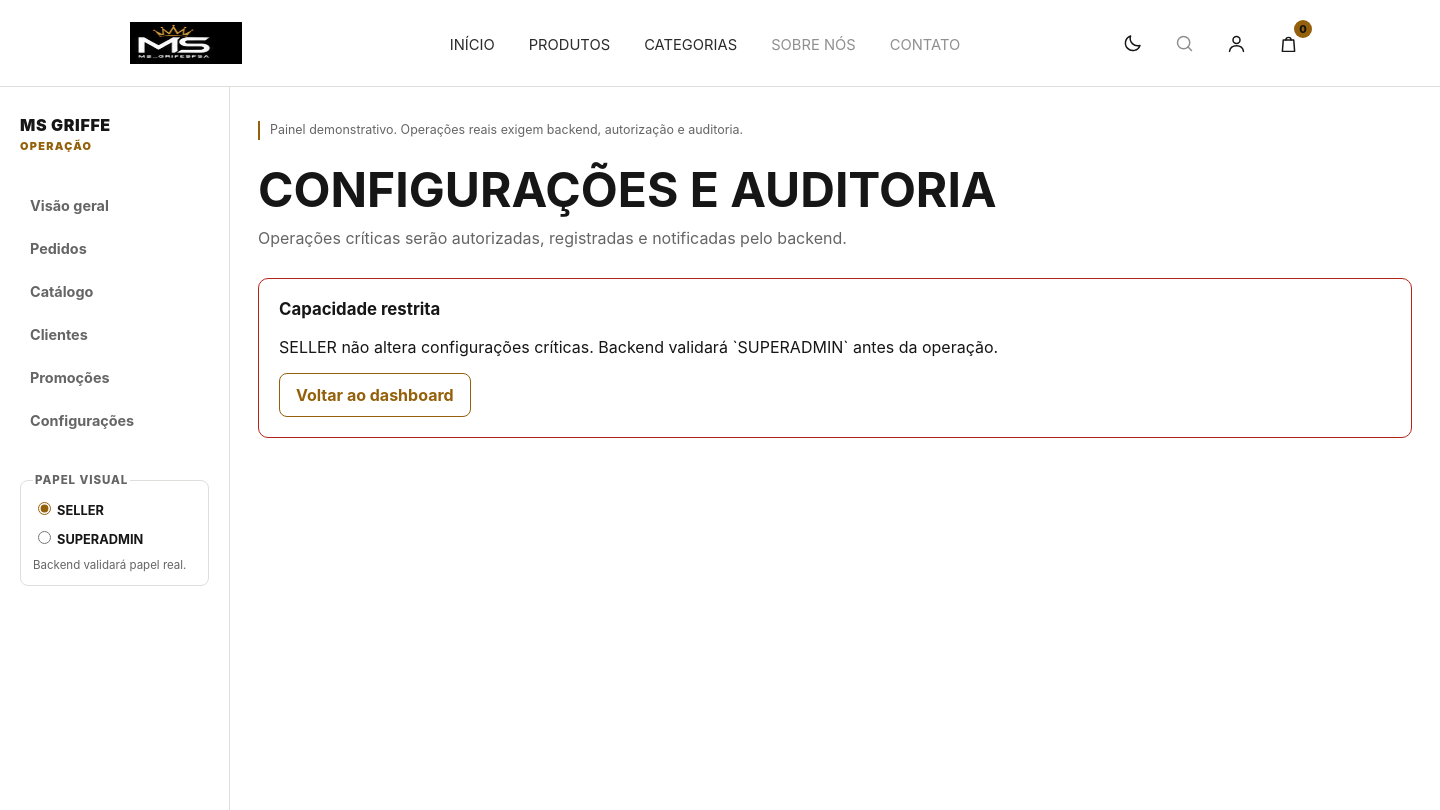
Test case: jornada demonstrativa administrativa › distingue capacidade SELLER e SUPERADMIN
Expected: the heading "Configurações e auditoria" is shown, 258,160 -> 997,219
Expected: the heading "Capacidade restrita" is shown, 279,299 -> 440,319
Click the radio button labelled "SUPERADMIN".
click(44, 538)  # box 38,531 -> 51,544
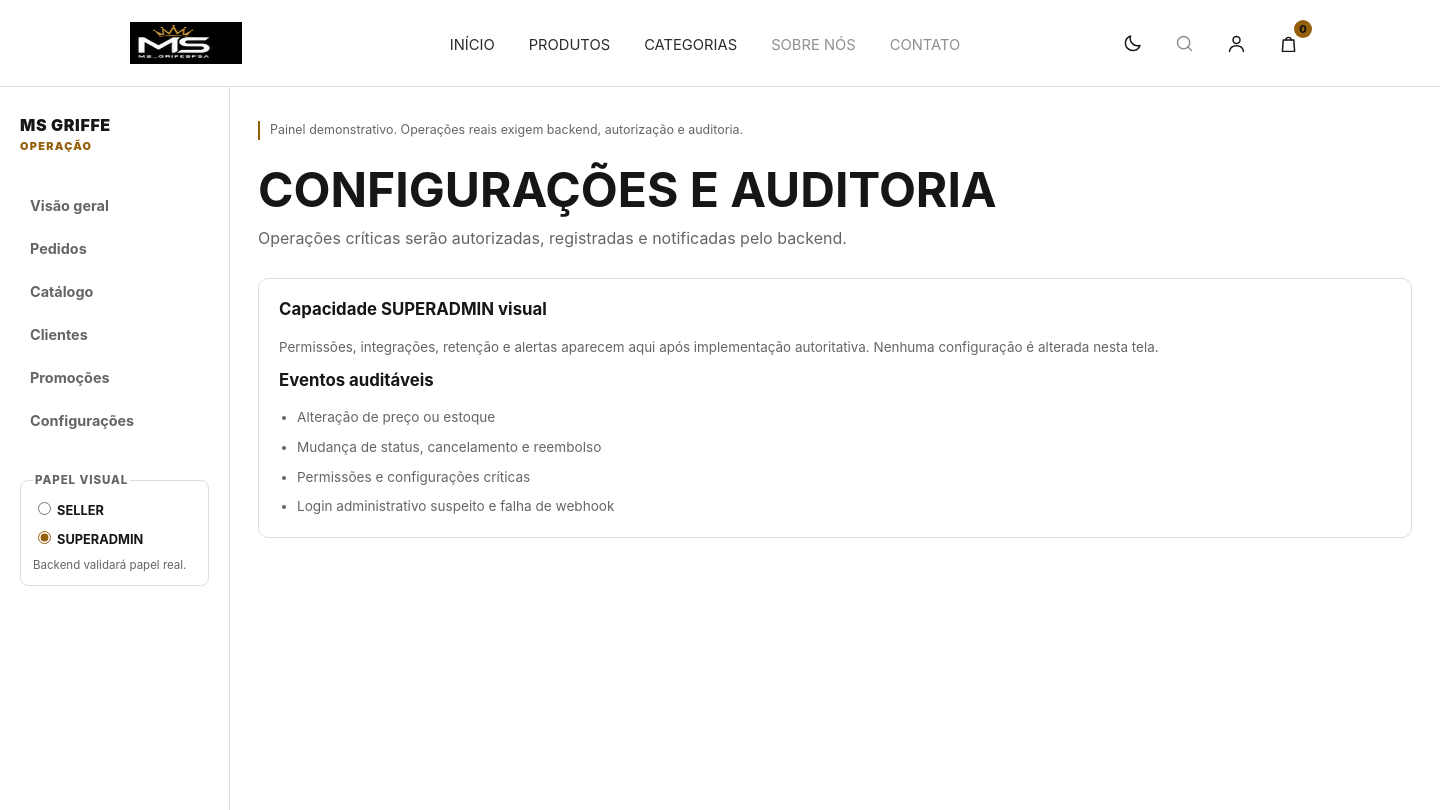
Expected: the heading "Capacidade SUPERADMIN visual" is shown, 279,299 -> 547,319
Expected: the text "nenhuma configuração é alterada" is shown, 279,339 -> 1159,355
